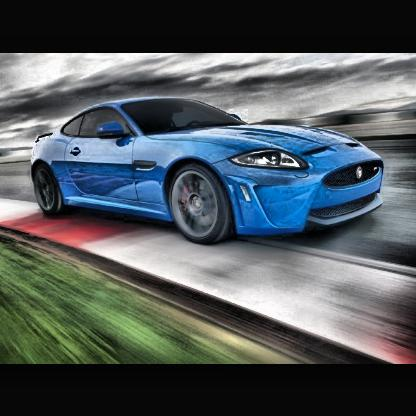Jaguar XK XKR 2012: (13, 86, 394, 276)
